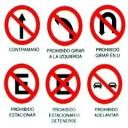NoEstacionar: (2, 62, 43, 105)
NoUltrapassar: (87, 62, 123, 106)
NoVirarEsquerda: (46, 5, 85, 47)
NoVirarU: (89, 5, 127, 45)
